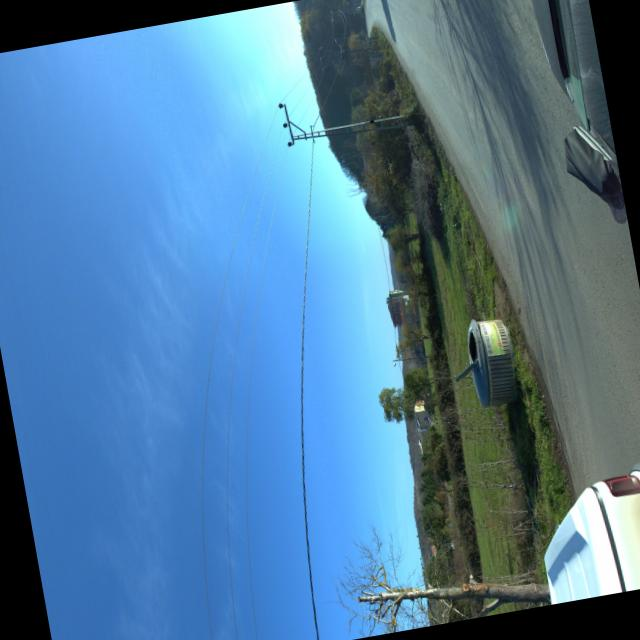Utility Pole Information Plate: (370, 119, 373, 121)
